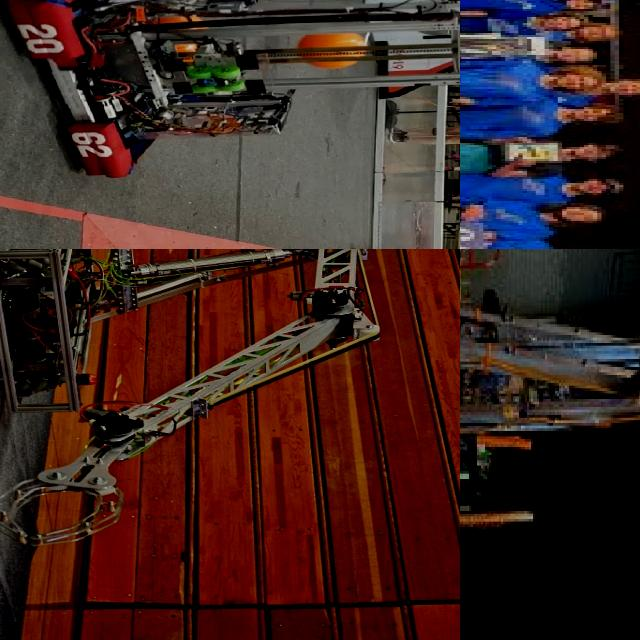FRC-Robots: (0, 249, 405, 574), (0, 0, 460, 200), (460, 249, 640, 635), (460, 0, 568, 121)
